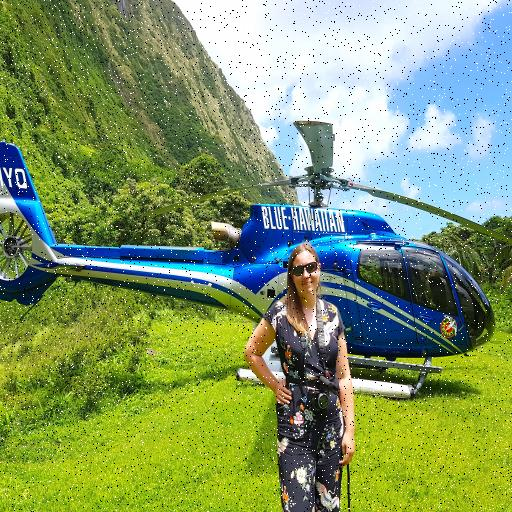helicopter: (1, 114, 512, 409)
